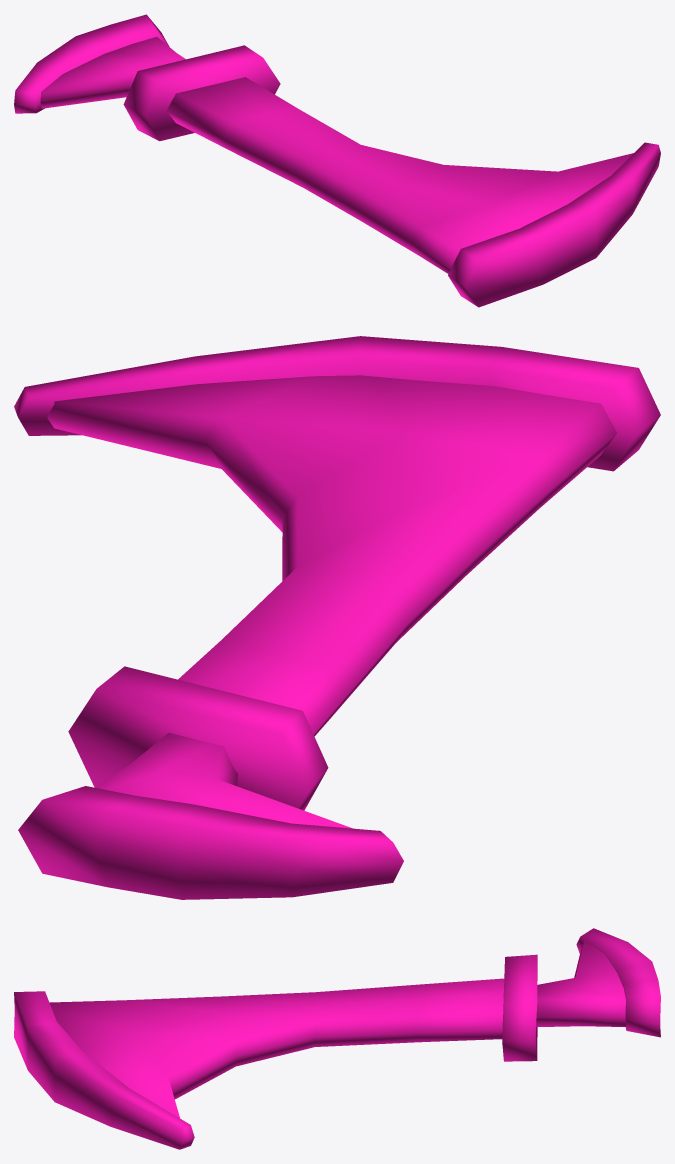
The model's file is swordThrowing.fbx.
3 views of the same model, one above another, from view 1: azimuth 30°, elevation 25°; view 2: azimuth 150°, elevation 25°; view 3: azimuth 270°, elevation 25° (orthographic). The views are drawn at different scales.
Visible parts, largest first — view 1: swordThrowing; view 2: swordThrowing; view 3: swordThrowing.
Part boxes in pixels (x1,y1,x2,y2): swordThrowing: [14, 14, 660, 307]; swordThrowing: [14, 336, 660, 899]; swordThrowing: [14, 928, 660, 1149].
Bounding box in the file's own units: 155 × 20 × 207.
1 material, 1 textured.
